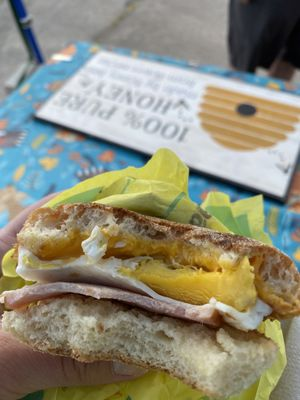soup: (1, 198, 300, 399)
